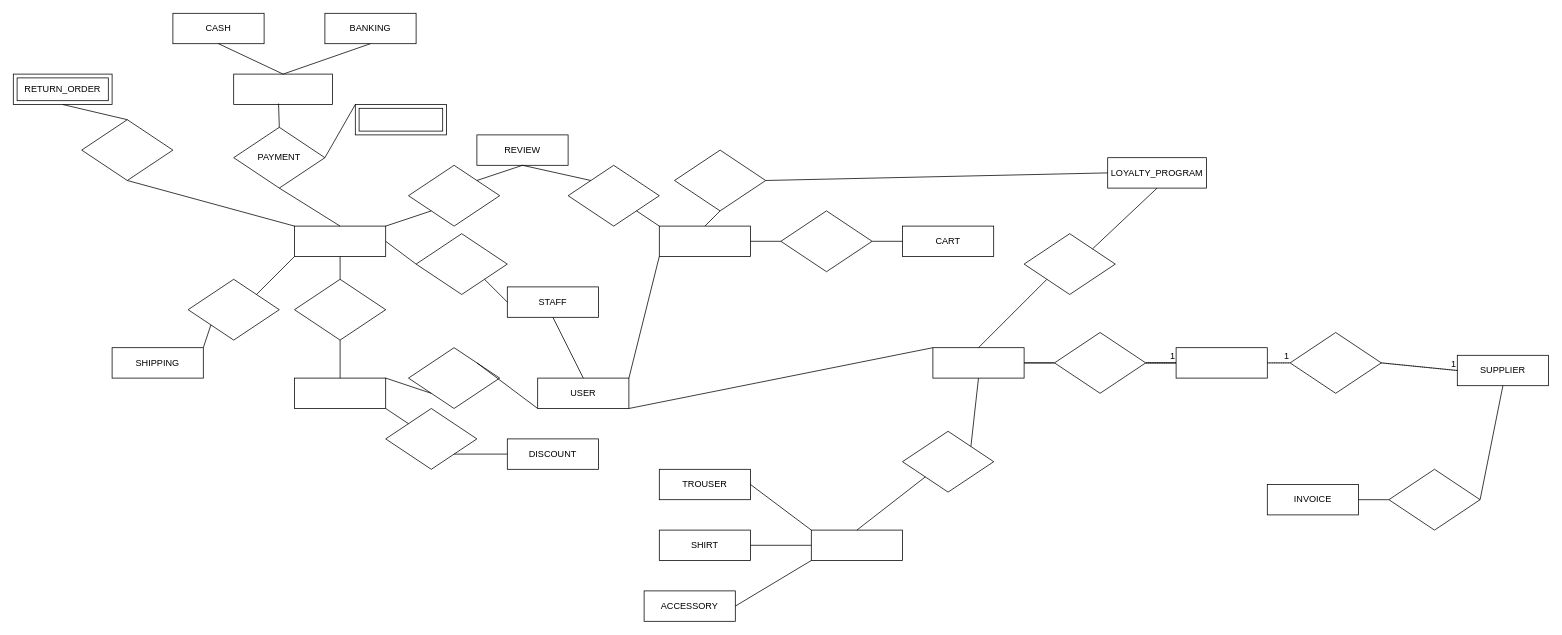
Image size: 1562x635. Some labels were removed from this diagram. The shapes that lost their labels are listed below. From the top down, each one's centre as x and y in pixels, then its label:
(282,88): PAYMENT_METHOD
(400,119): ORDER_DETAIL
(340,240): ORDER
(704,240): CUSTOMER
(978,362): MANAGER
(1221,362): IMPORT_RECEIPT
(340,392): PRODUCT
(856,544): CATEGORY
